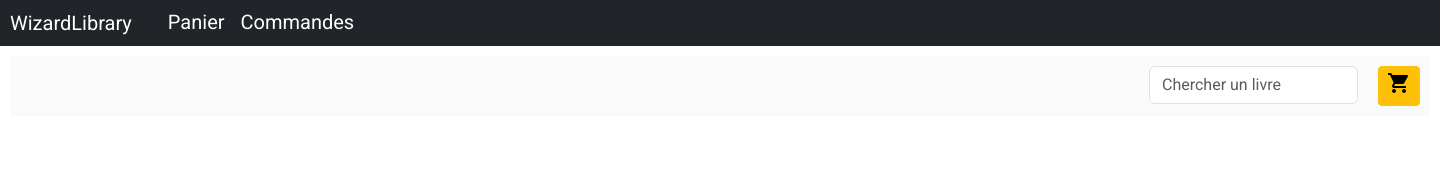
Tests de la page Commandes › Devrait afficher une commande effectuée
Click the list item with id "navigateToOrders": (306, 23) [241,12,371,34]
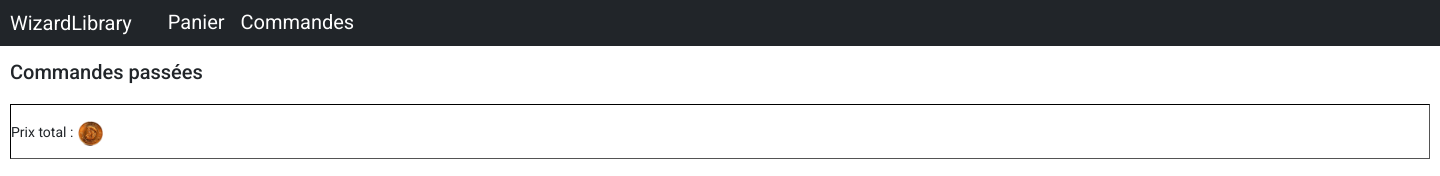
Now the heading "Commandes passées" is shown, box [10,60,203,84]
